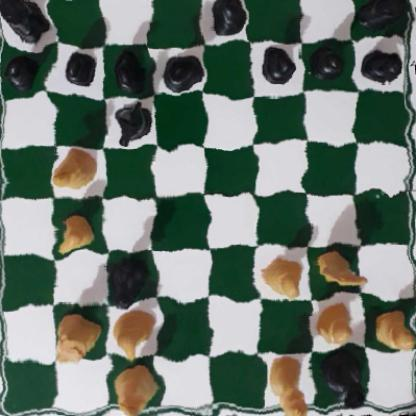black-bishop: (316, 352, 369, 415), (158, 52, 202, 90)
black-king: (207, 0, 244, 37)
black-knight: (113, 100, 156, 147)
black-pawn: (4, 47, 47, 89), (362, 44, 401, 87), (257, 45, 294, 85), (62, 45, 95, 89), (112, 49, 147, 90), (308, 46, 345, 80)
black-queen: (108, 251, 153, 312)
black-rook: (0, 0, 54, 37), (356, 0, 411, 30)
white-bishop: (115, 360, 154, 416), (52, 147, 96, 192)
white-king: (264, 354, 313, 416)
white-knight: (313, 246, 373, 295)
white-pawn: (313, 299, 358, 350), (54, 209, 97, 260), (114, 307, 155, 356), (370, 307, 415, 348), (263, 254, 302, 298)
white-rook: (52, 309, 99, 369)
